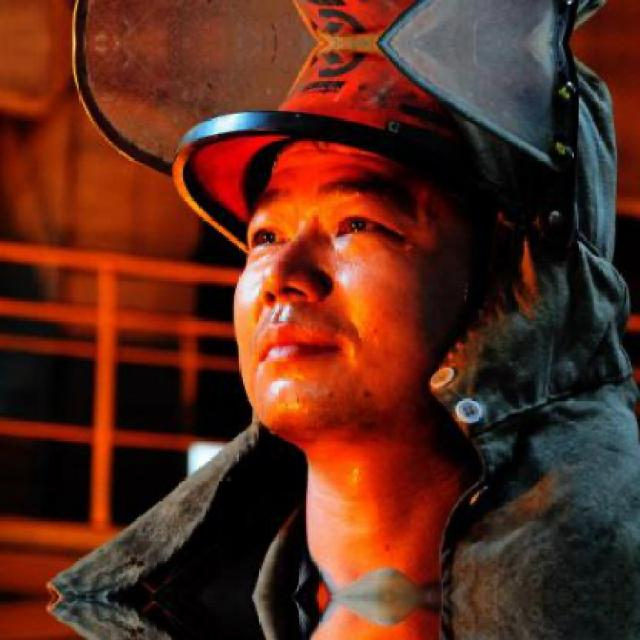helmet: (176, 42, 610, 476)
